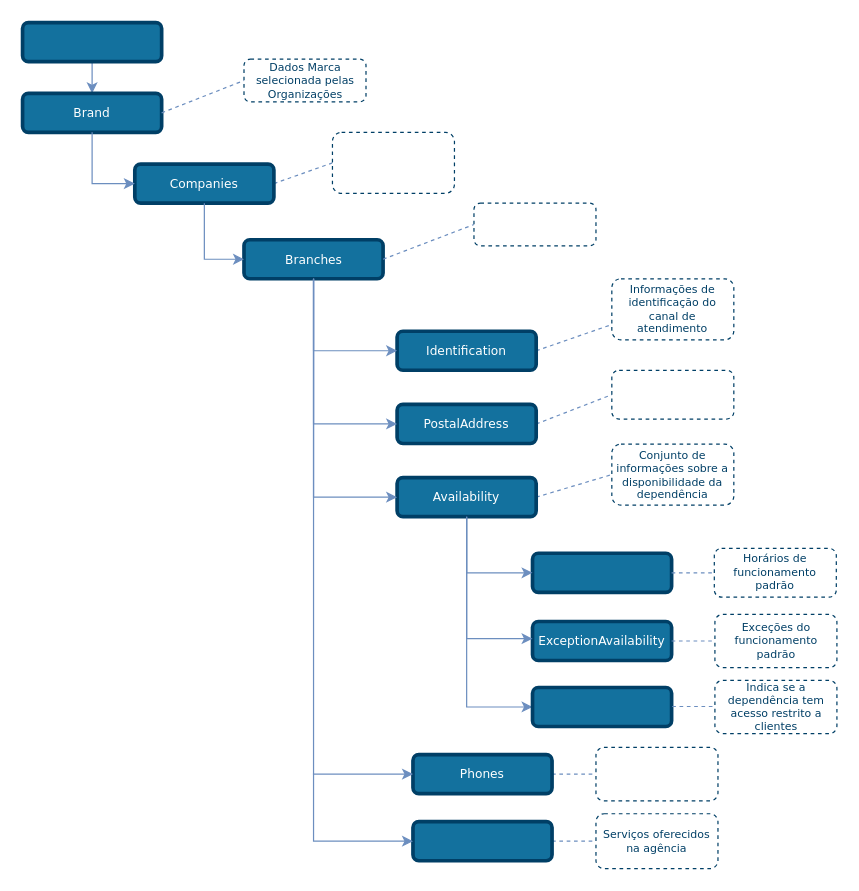
Some shapes in this 859 by 891 pixel diagram are drawn without their labels. The centre of each missing label's shape, as x and y in pixels:
Conjunto de dados da dependência própria: [534,224]
Conjunto de informações sobre a instituição financeira: [392,162]
Endereço da dependência própria: [672,394]
isPublicAccessAllowed: [601,706]
Open Banking: [91,41]
Services: [482,840]
Standards: [601,572]
Telefones para contato: [656,773]
